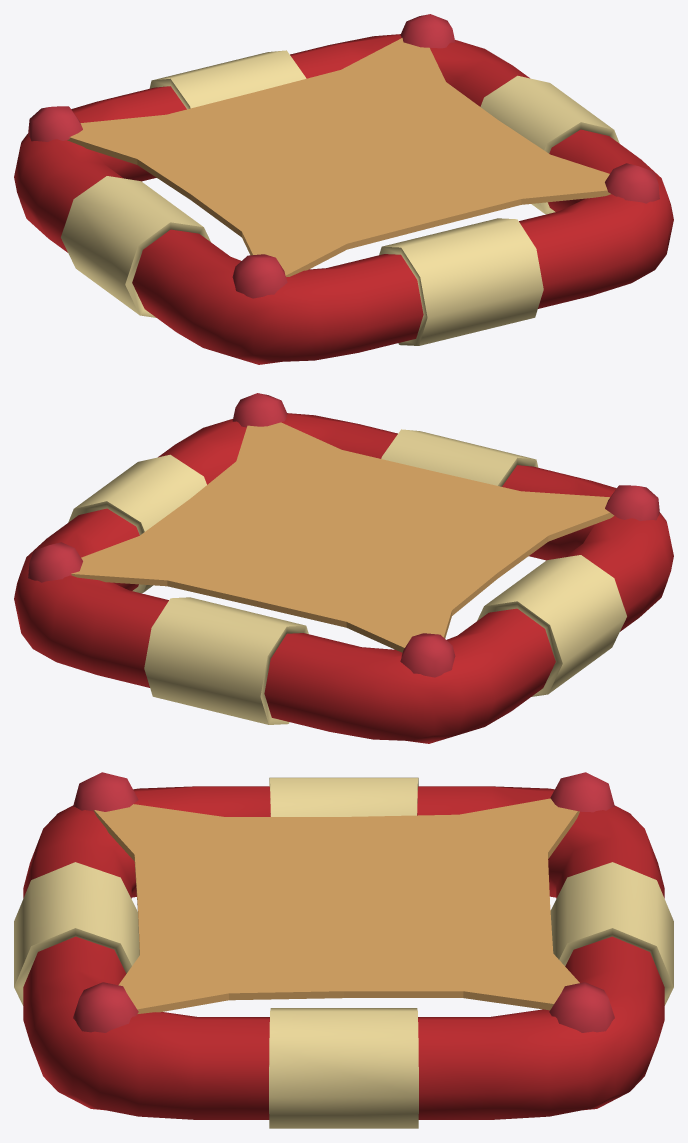
The model's file is Balsa.fbx.
3 renders of one model, top to bottom at view 1: azimuth 30°, elevation 25°; view 2: azimuth 150°, elevation 25°; view 3: azimuth 270°, elevation 25°, orthographic. The views are drawn at different scales.
Visible parts, largest first — view 1: Cube.094_Cube.003_Cube.094_Cube.005; view 2: Cube.094_Cube.003_Cube.094_Cube.005; view 3: Cube.094_Cube.003_Cube.094_Cube.005.
Boxes of the visible parts, x1,y1,x2,y2 form: Cube.094_Cube.003_Cube.094_Cube.005: [14, 14, 673, 364]; Cube.094_Cube.003_Cube.094_Cube.005: [14, 393, 673, 743]; Cube.094_Cube.003_Cube.094_Cube.005: [14, 772, 673, 1128].
Bounding box in the file's own units: 361 × 76.57 × 353.
